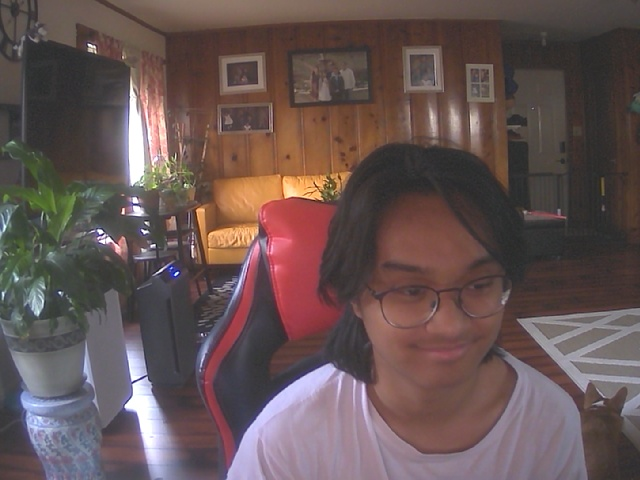happy: (349, 158, 519, 397)
